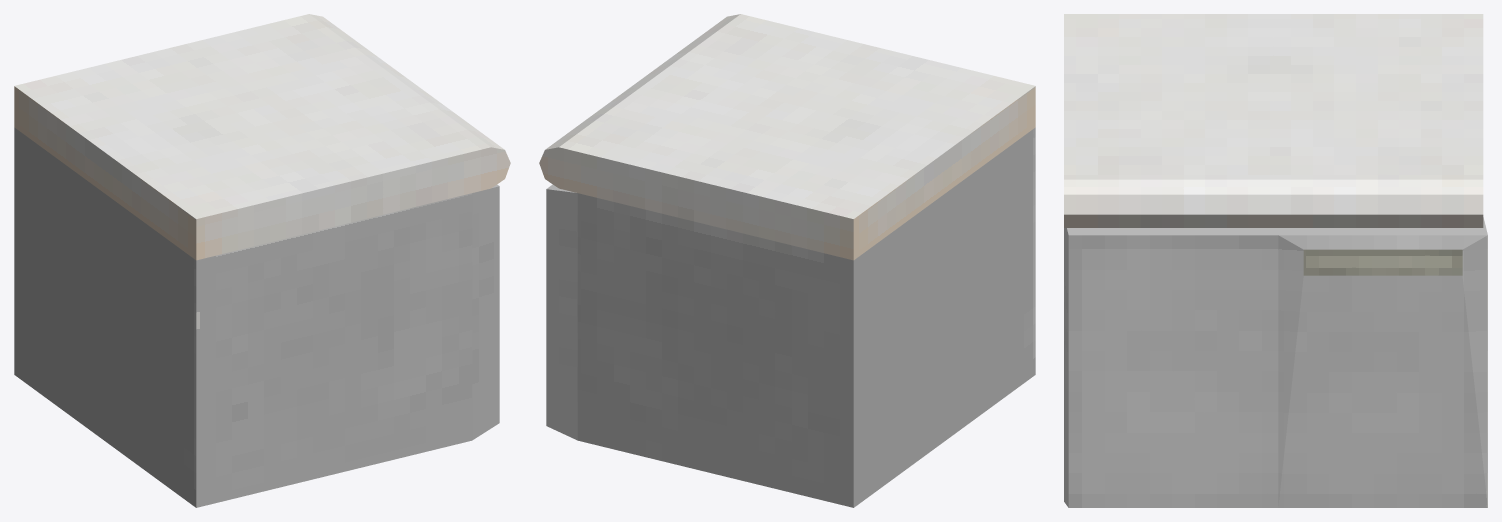
Rendered from Counter2.glb.
3 renders of one model, left to right at view 1: azimuth 30°, elevation 25°; view 2: azimuth 150°, elevation 25°; view 3: azimuth 270°, elevation 25°, orthographic. The views are drawn at different scales.
Parts seen in each view (by area): view 1: baseCounter.001; view 2: baseCounter.001; view 3: baseCounter.001.
Boxes of the visible parts, bbox=[...] form: baseCounter.001: bbox=[14, 14, 510, 507]; baseCounter.001: bbox=[539, 14, 1035, 507]; baseCounter.001: bbox=[1064, 14, 1487, 507].
Size of the model in its own units: 3.99 by 3.5 by 4.04.
1 material, 1 textured.
